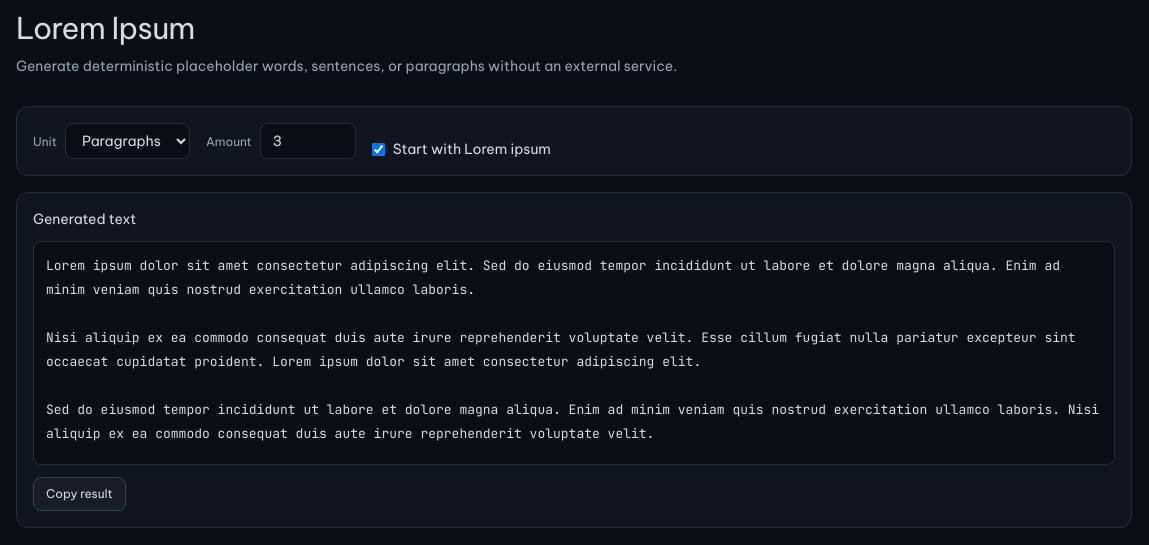
Test: Lorem Ipsum tool › generates the requested unit and amount with copy support
The image size is (1149, 545).
Select "Words" in the dropdown labelled "Unit" at (127, 141), box x1=65 y1=123 x2=190 y2=159
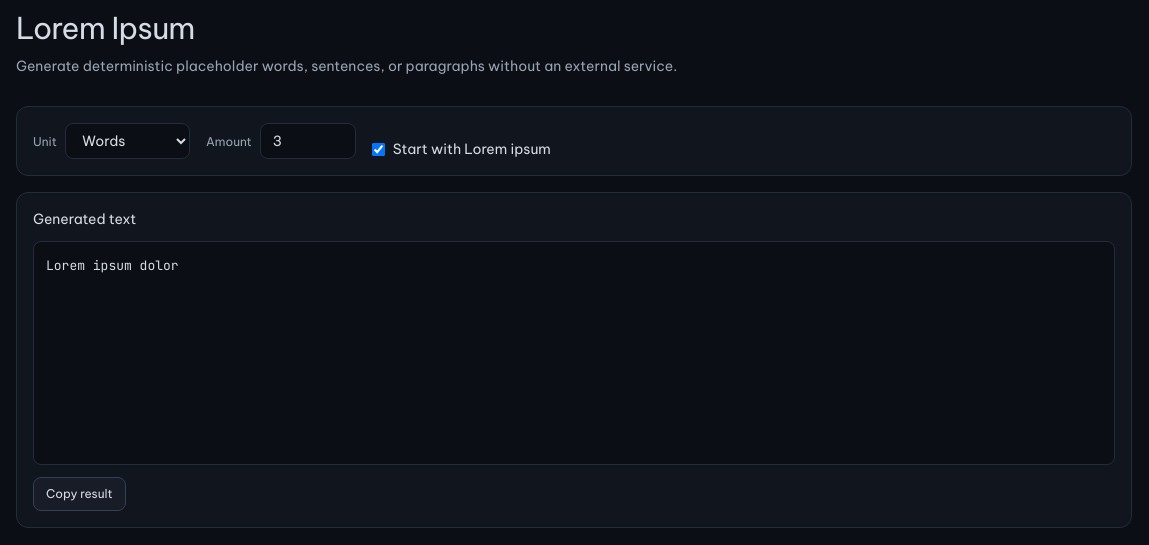
Replace the text in the number field labelled "Amount" with "5" at (308, 141), box x1=260 y1=123 x2=356 y2=159
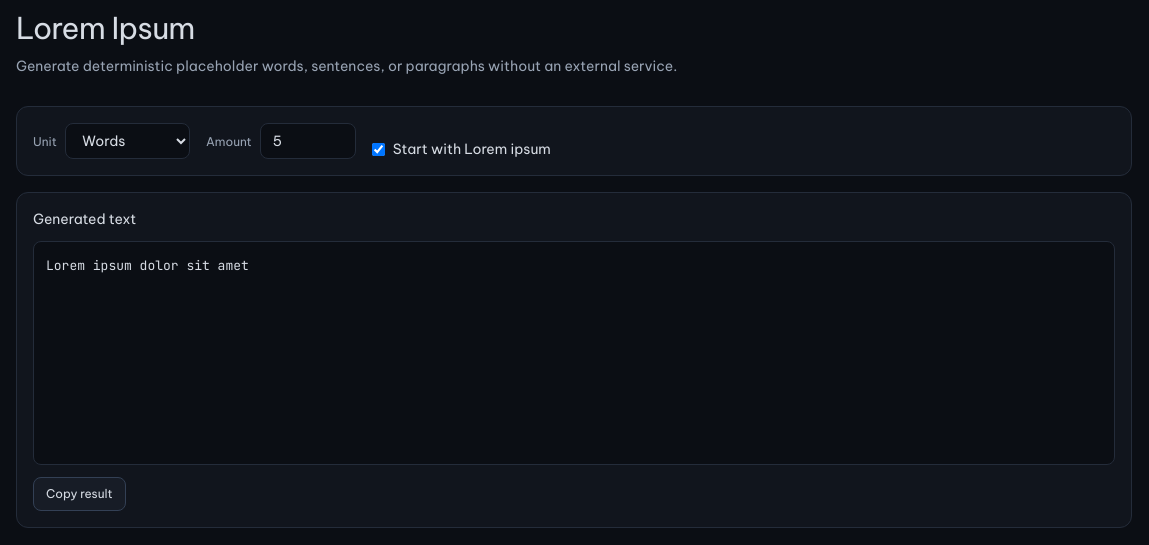
Check: the button "Copy result" is enabled, box x1=33 y1=477 x2=126 y2=511
Check: the element named "Generated text" reads "Lorem ipsum dolor sit amet", box x1=46 y1=257 x2=249 y2=274
